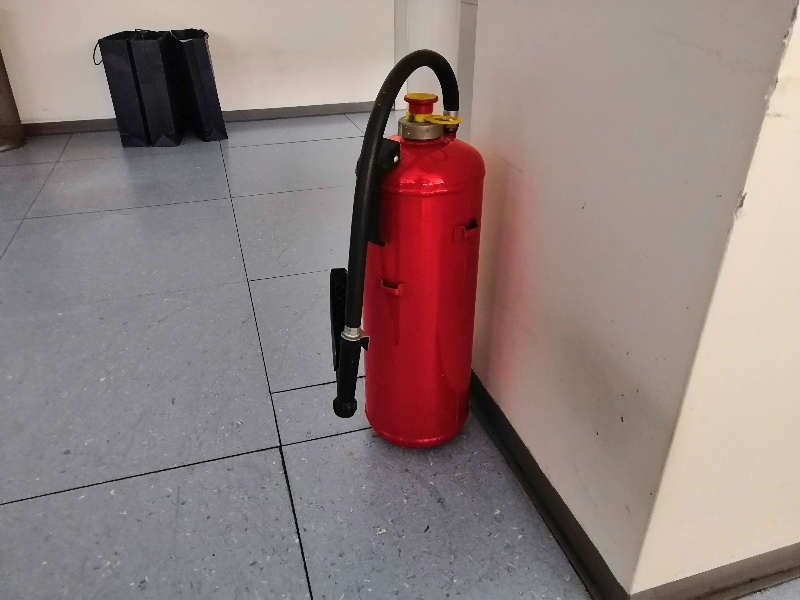vataparat: (328, 50, 487, 448)
